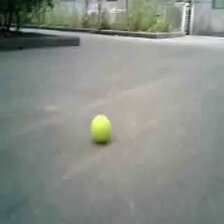tennis: (90, 115, 110, 140)
